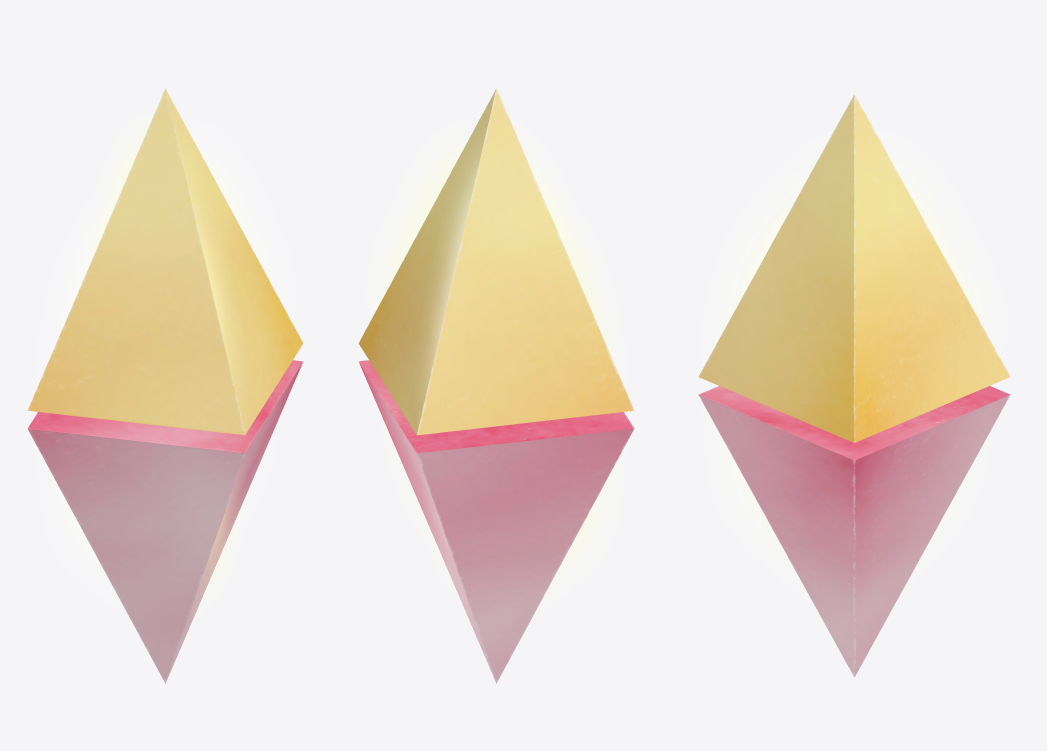
File: gem_I.glb
3 renders of one model, left to right at view 1: azimuth 30°, elevation 25°; view 2: azimuth 150°, elevation 25°; view 3: azimuth 270°, elevation 25°, orthographic. The views are drawn at different scales.
Parts seen in each view (by area): view 1: I, light-I002; view 2: I, light-I002; view 3: I, light-I002.
Boxes of the visible parts, bbox=[...] form: I: bbox=[27, 88, 303, 683]; light-I002: bbox=[48, 128, 283, 597]; I: bbox=[358, 88, 634, 683]; light-I002: bbox=[378, 130, 613, 582]; I: bbox=[698, 94, 1010, 677]; light-I002: bbox=[714, 149, 993, 570].
Bounding box in the file's own units: 2.54 × 4.83 × 2.64.
2 materials, 2 textured.
